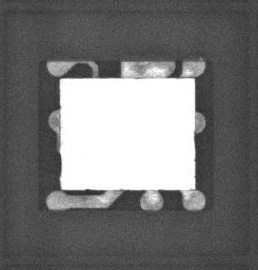DIE_BROKEN: (58, 150, 63, 190)
